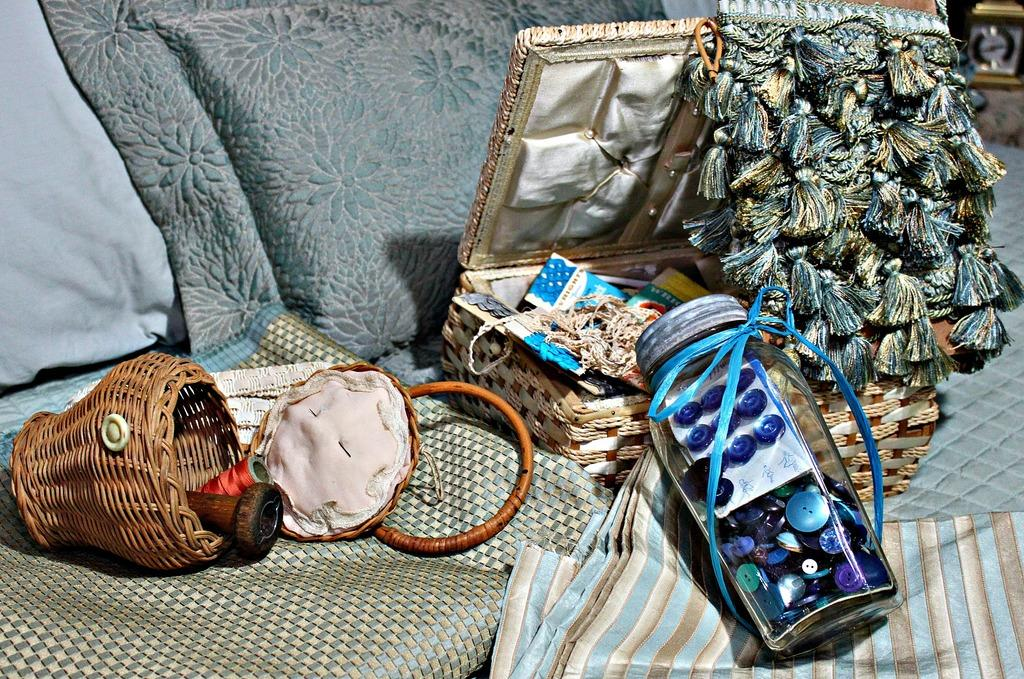Luggage-and-bags: (436, 14, 941, 511)
